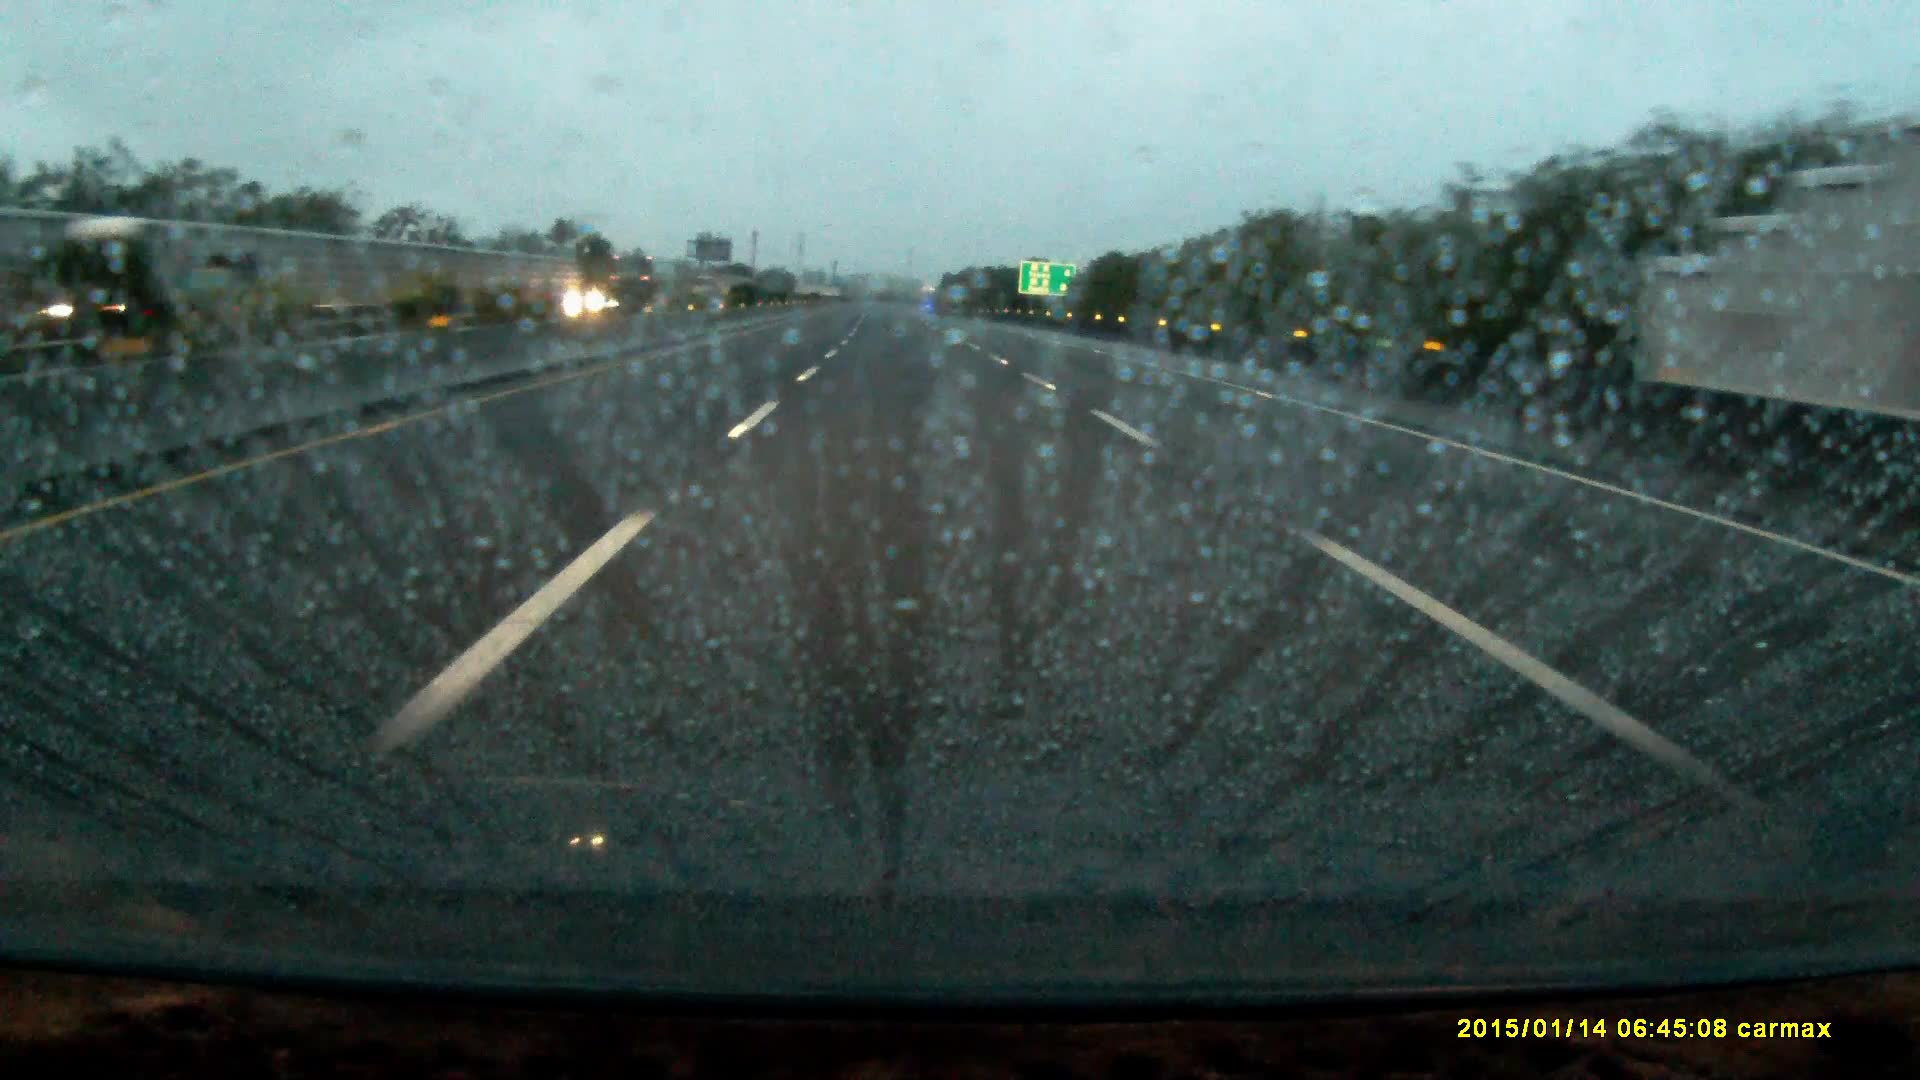vehicle: (57, 218, 284, 364), (609, 257, 678, 316)
